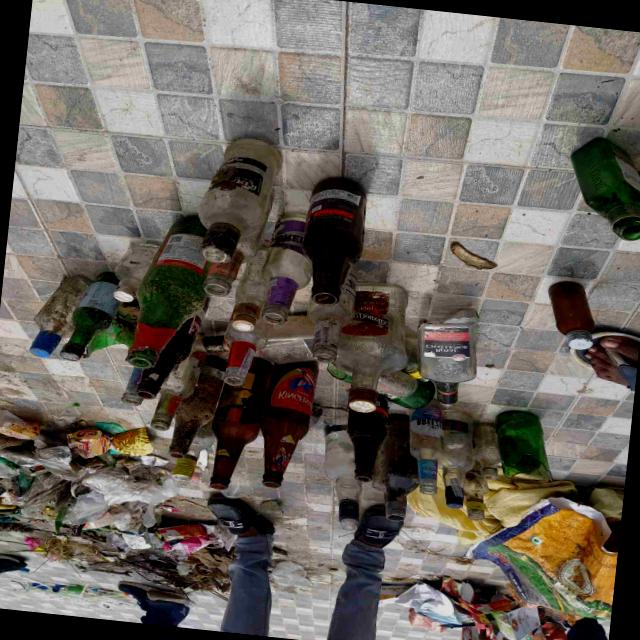chai_thuy_tinh: (125, 216, 207, 368), (197, 137, 281, 262), (335, 282, 407, 413), (208, 359, 272, 490), (302, 177, 366, 305), (135, 297, 209, 399), (260, 361, 318, 488), (571, 137, 640, 240), (417, 308, 479, 407), (168, 355, 226, 458), (261, 212, 311, 324), (59, 271, 118, 361), (371, 414, 419, 521), (150, 340, 206, 431), (28, 275, 89, 357), (307, 266, 358, 363), (202, 228, 262, 296), (495, 411, 552, 479), (347, 396, 389, 482), (439, 410, 474, 509), (222, 320, 270, 385), (231, 246, 267, 331), (409, 406, 443, 495), (323, 425, 362, 501), (112, 242, 157, 301), (549, 281, 595, 334), (377, 370, 435, 409), (473, 423, 501, 479), (464, 462, 489, 521)
